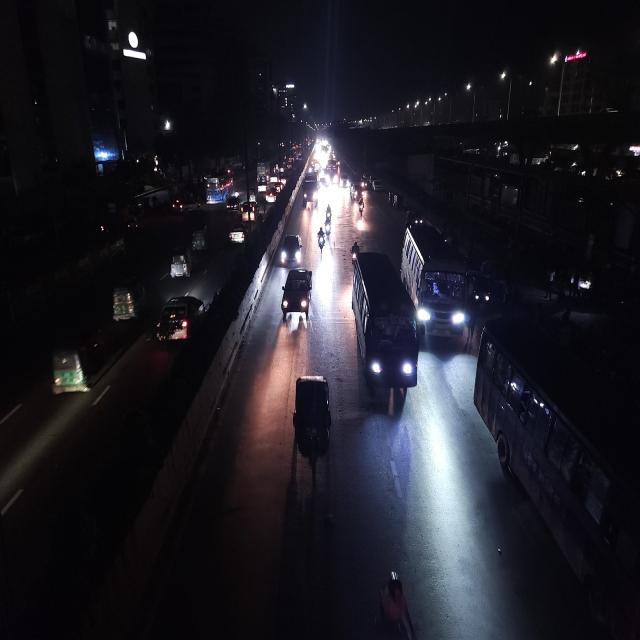bus: (476, 315, 640, 640), (349, 244, 421, 405), (399, 214, 472, 345), (202, 172, 232, 204), (302, 170, 319, 208), (324, 160, 339, 188)
car: (154, 290, 208, 348), (278, 230, 304, 268), (171, 196, 201, 215), (228, 222, 248, 246), (240, 200, 258, 223), (224, 194, 240, 213), (266, 187, 278, 204)
cng: (288, 371, 336, 480), (49, 317, 105, 402), (278, 264, 316, 327), (110, 272, 146, 328), (468, 265, 492, 310), (168, 244, 192, 282), (190, 217, 211, 256)
motorcycle: (315, 225, 328, 256), (324, 202, 334, 229), (357, 199, 365, 216)
truck: (278, 264, 316, 328), (302, 170, 320, 209)
